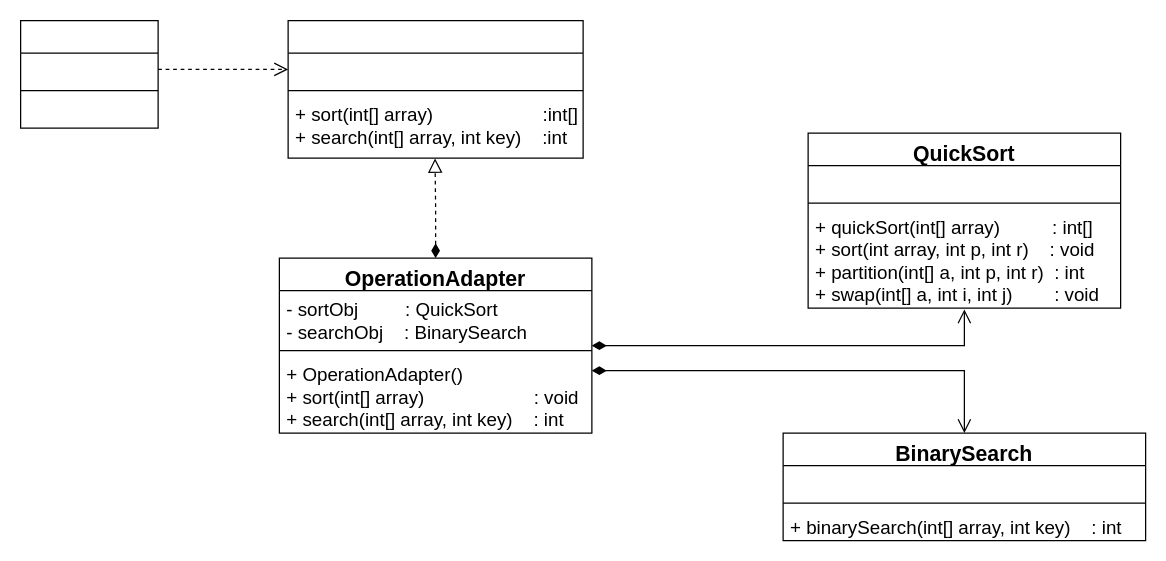
This 1166x561 diagram has some shape labels left out. Each missing label, with the box of its shape:
Client: (19, 19, 158, 128)
ScoreOperation: (287, 19, 583, 158)
